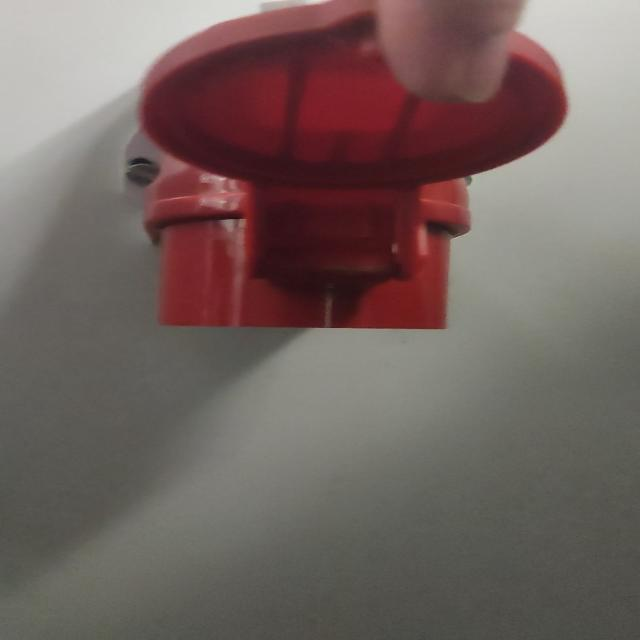400v socket down: (137, 0, 569, 332)
